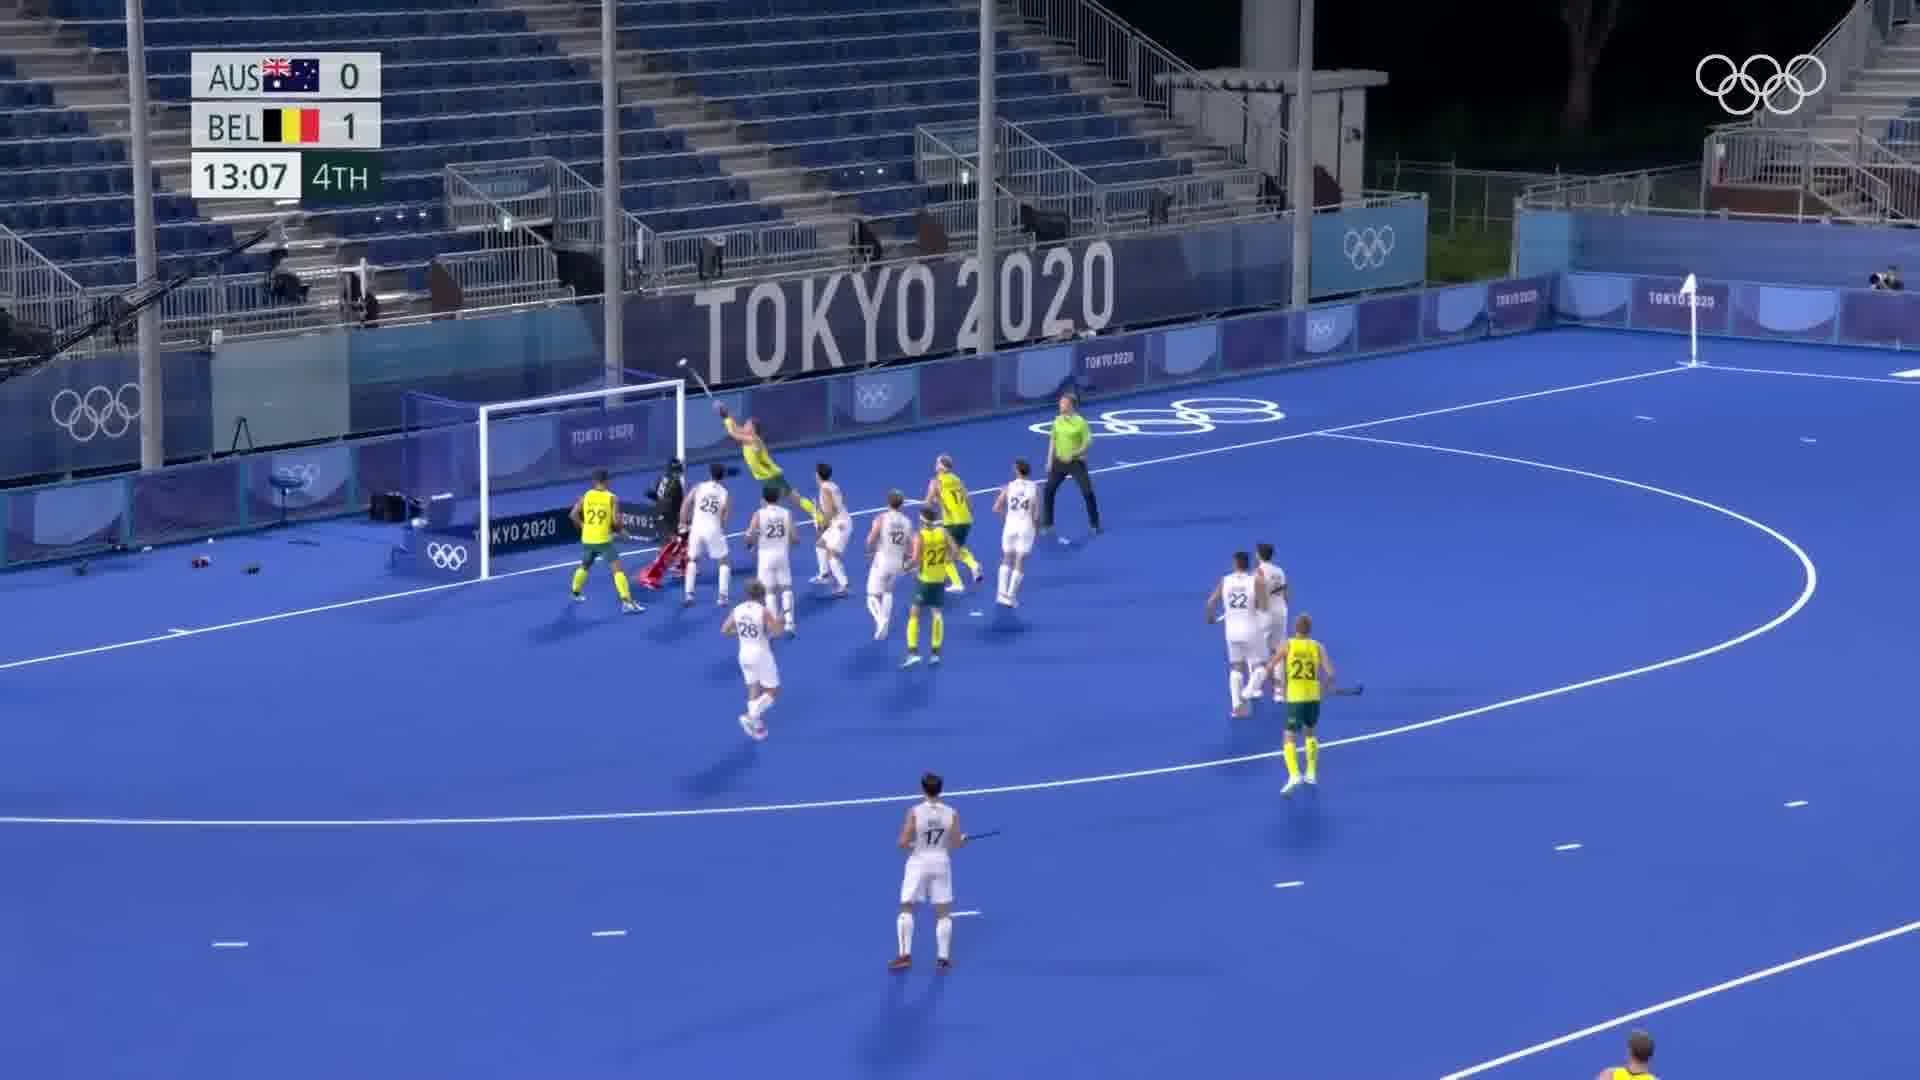ball: (675, 355, 688, 371)
